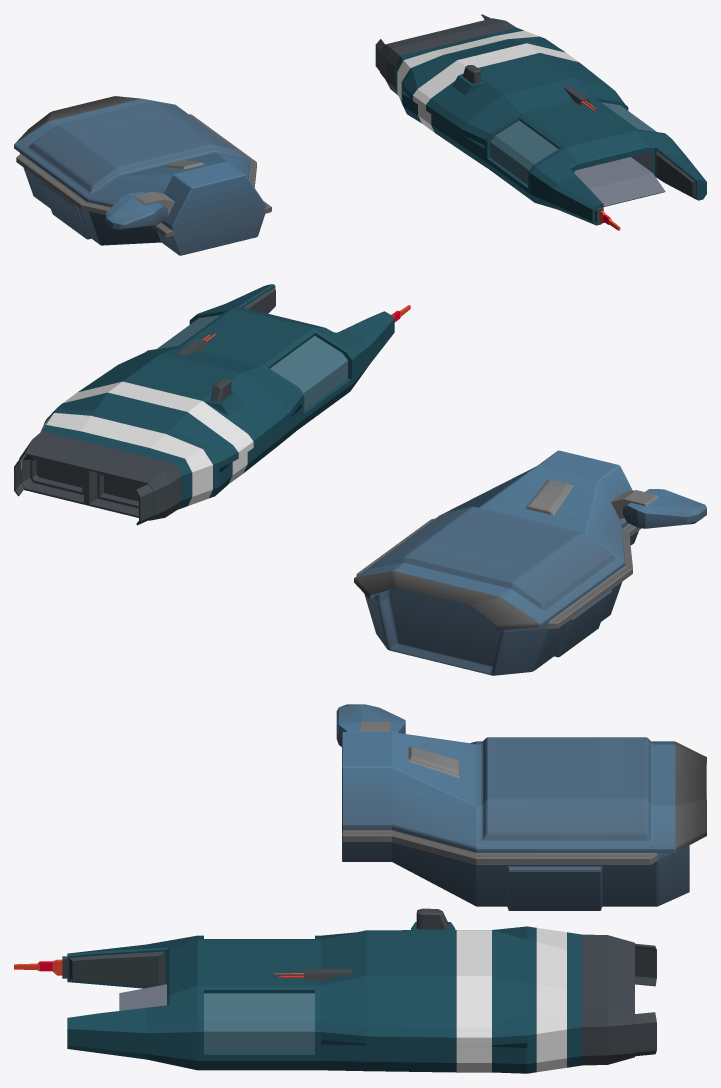
The model's file is standard_core.glb.
3 renders of one model, top to bottom at view 1: azimuth 30°, elevation 25°; view 2: azimuth 150°, elevation 25°; view 3: azimuth 270°, elevation 25°, orthographic. The views are drawn at different scales.
Parts seen in each view (by area): view 1: Hull, Cube, Cube.001; view 2: Hull, Cube, Cube.001; view 3: Hull, Cube, Cube.001.
Boxes of the visible parts, x1,y1,x2,y2 form: Hull: (375, 14, 706, 230); Cube: (14, 96, 271, 255); Cube.001: (106, 191, 174, 229); Hull: (14, 284, 410, 525); Cube: (354, 450, 641, 675); Cube.001: (611, 489, 706, 528); Hull: (14, 908, 656, 1073); Cube: (342, 732, 706, 910); Cube.001: (336, 704, 405, 746).
Size of the model in its own units: 58.61 by 11.68 by 51.11.
Materials: 2 (2 with a texture image).
